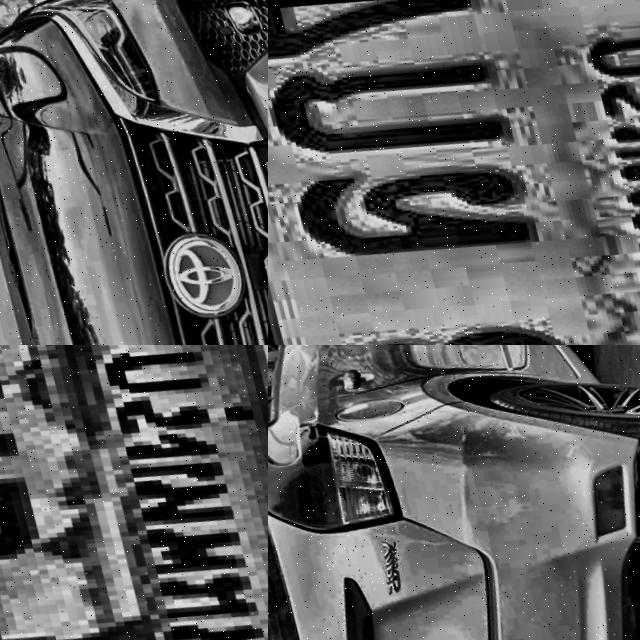license-plate: (268, 0, 640, 345), (0, 345, 268, 640)
